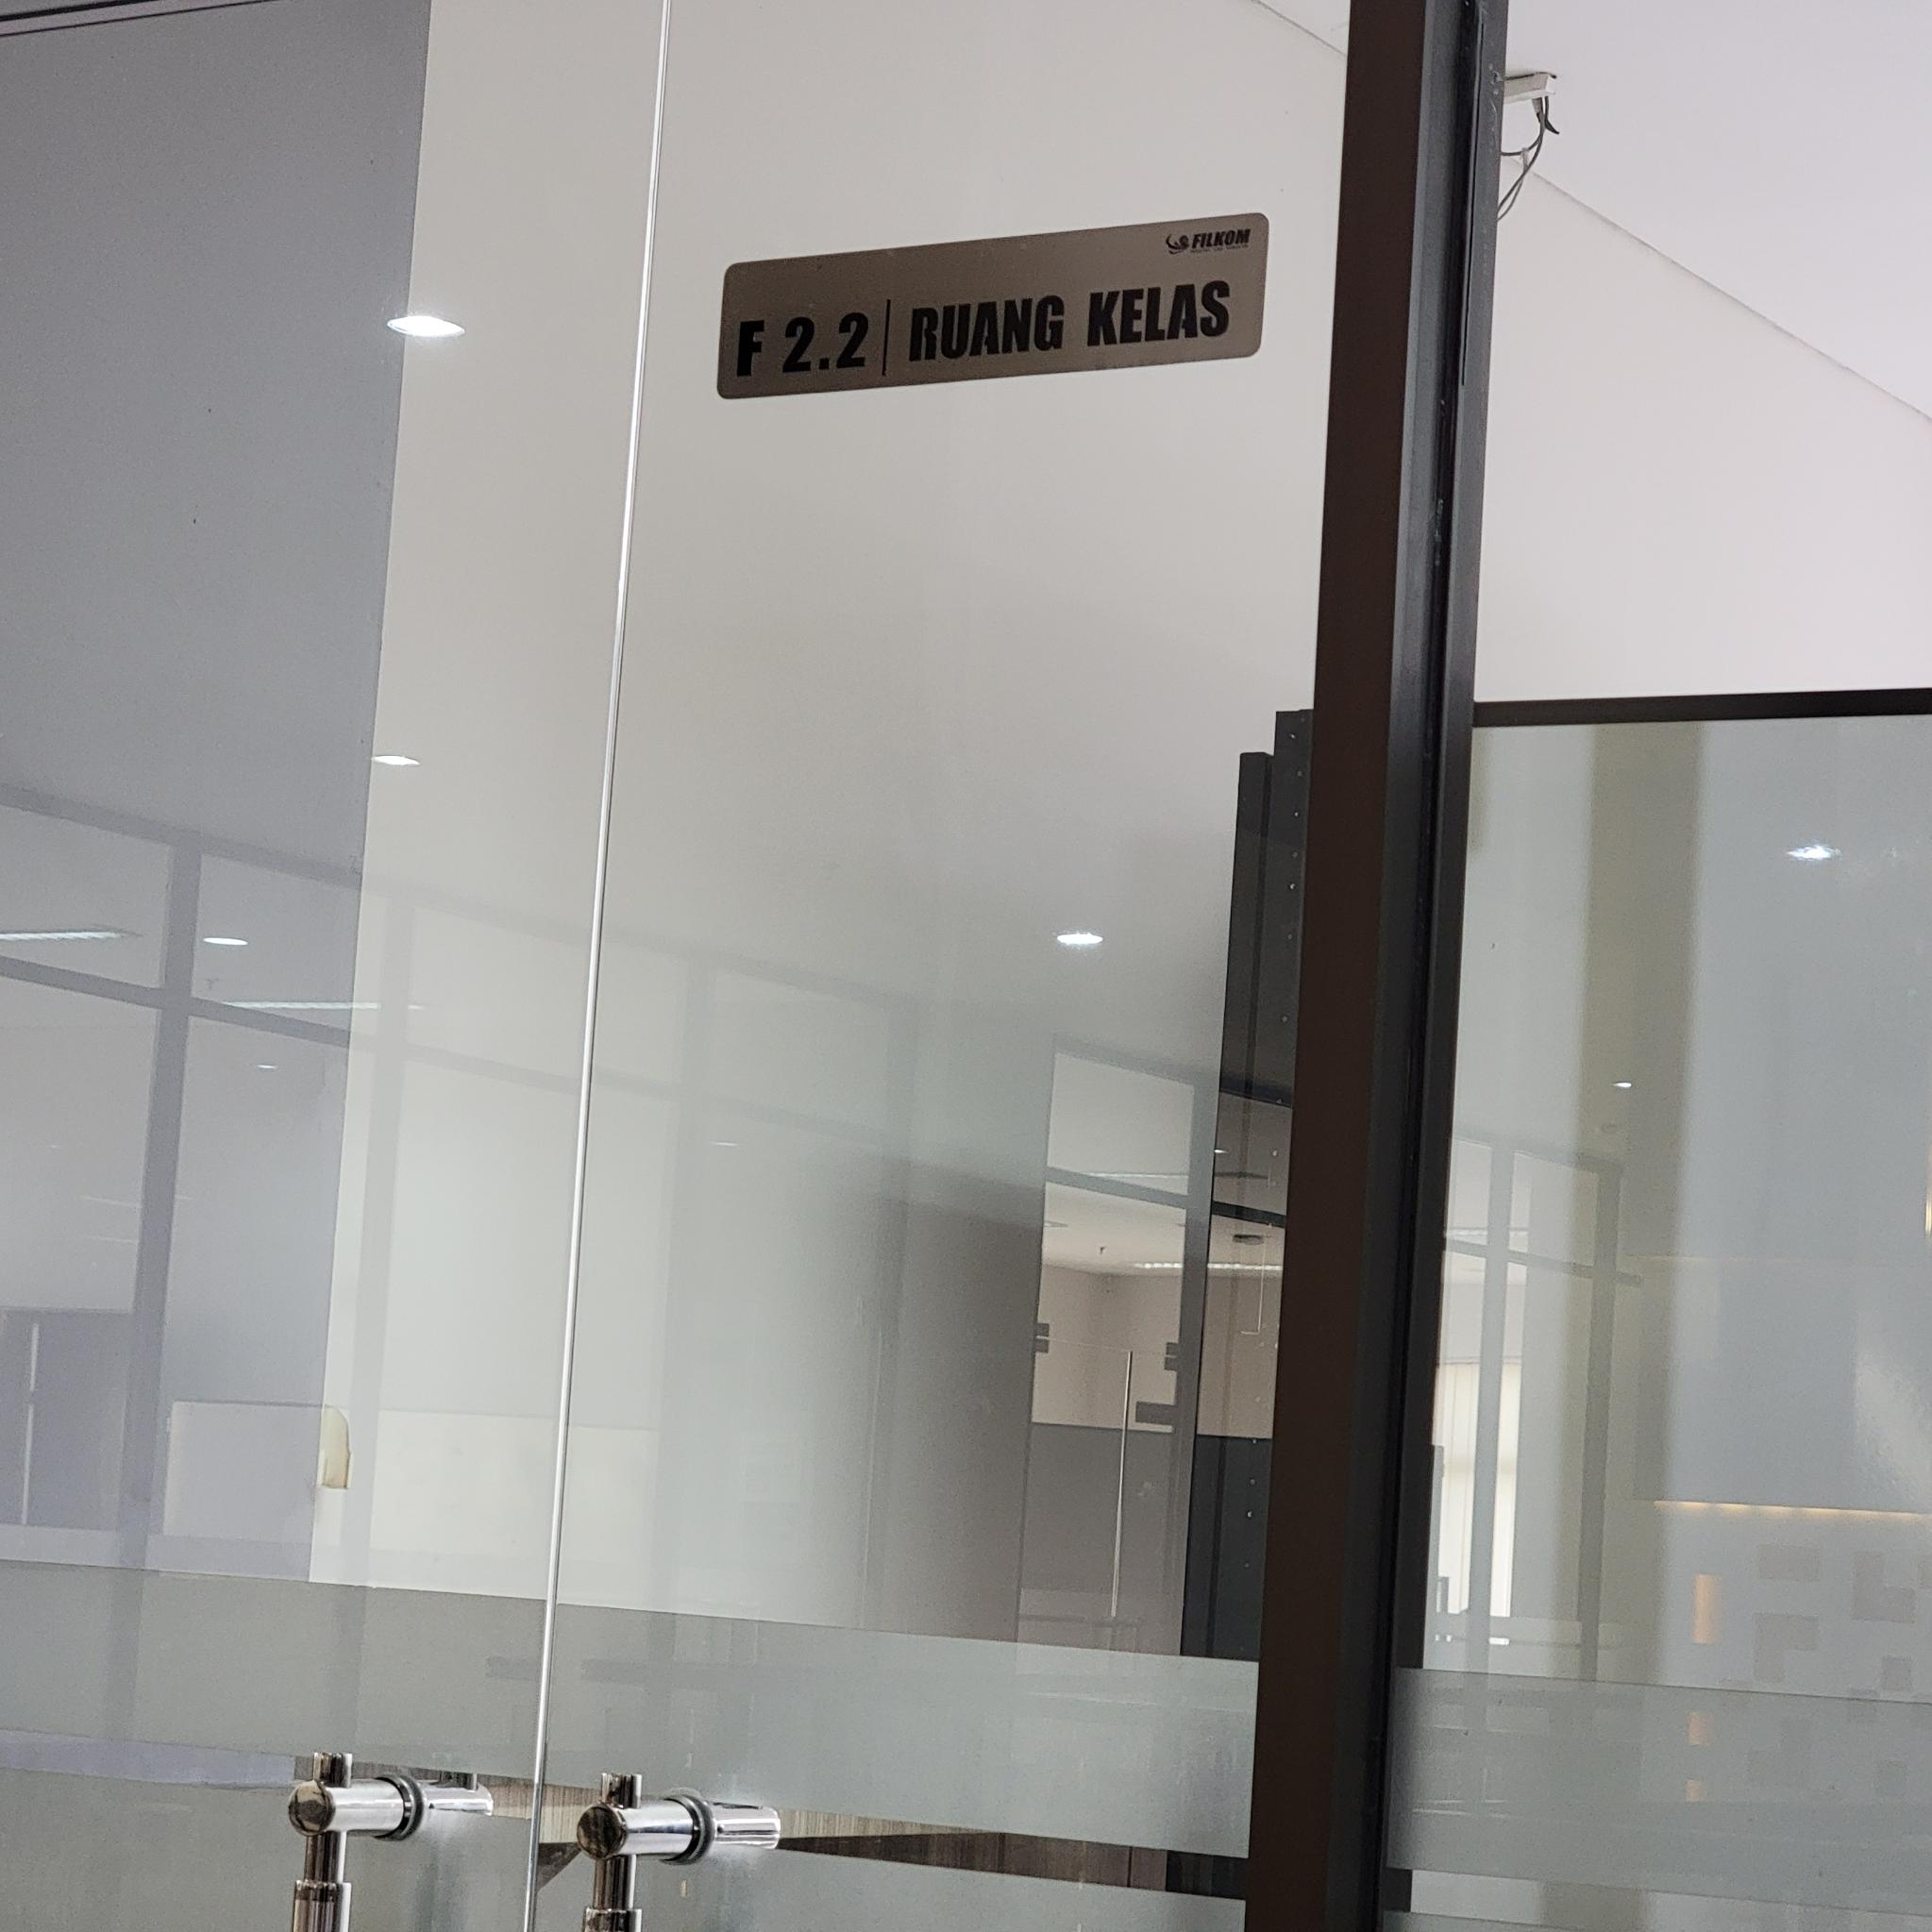plate: (717, 211, 1276, 403)
